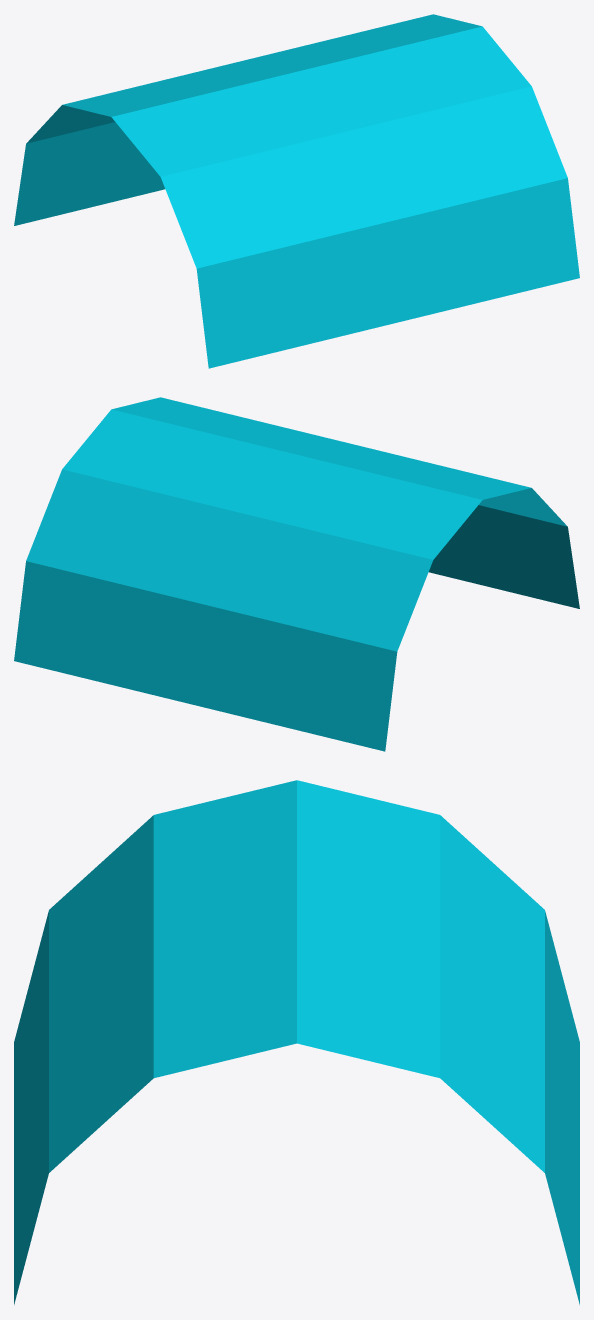
The model's file is transFlightWall.fbx.
3 renders of one model, top to bottom at view 1: azimuth 30°, elevation 25°; view 2: azimuth 150°, elevation 25°; view 3: azimuth 270°, elevation 25°, orthographic. The views are drawn at different scales.
Visible parts, largest first — view 1: transFlightWall; view 2: transFlightWall; view 3: transFlightWall.
Boxes of the visible parts, x1,y1,x2,y2 form: transFlightWall: (14, 14, 579, 368); transFlightWall: (14, 397, 579, 751); transFlightWall: (14, 780, 579, 1304).
Size of the model in its own units: 0.185 by 0.0859 by 0.168.
